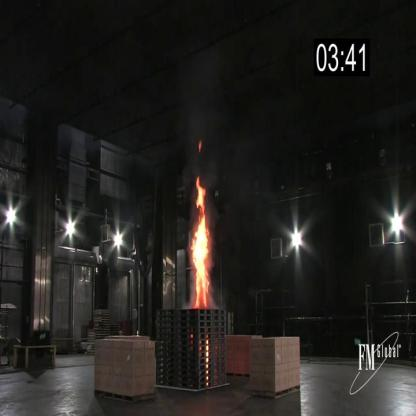fire: (186, 171, 213, 309)
